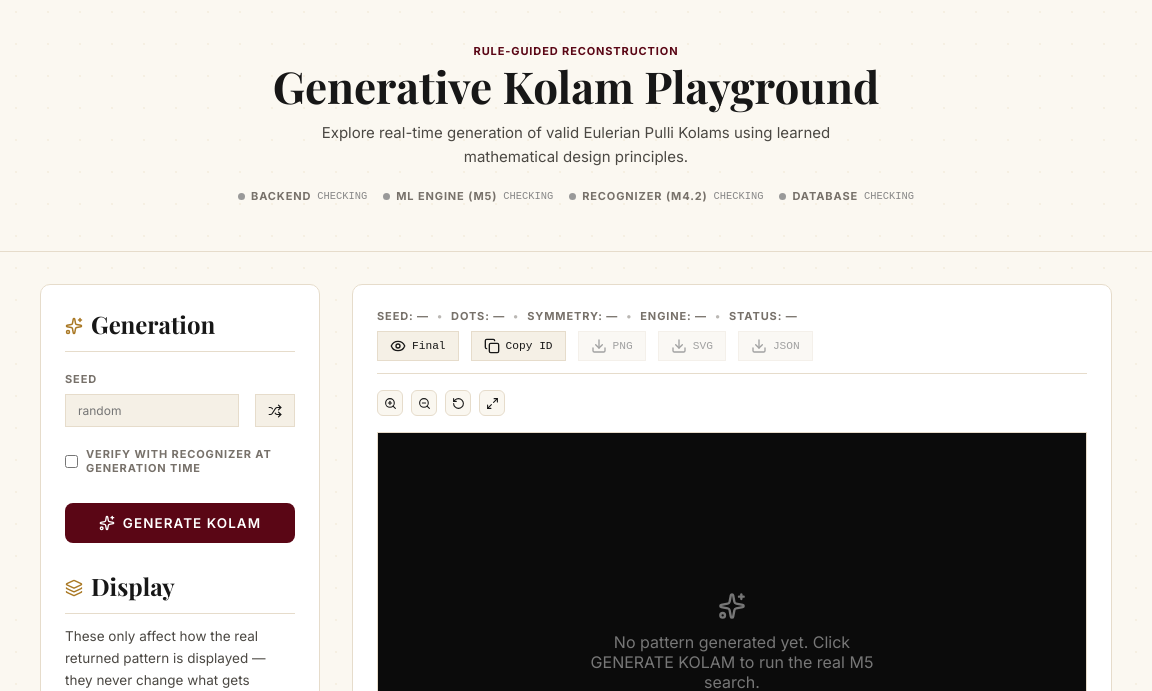
Playground — real generation flow › renders the real backend SVG and real analysis after a successful generation
Step 1. Click the button "GENERATE KOLAM" → (180, 523), box [65,503,295,543]
(page scrolled)
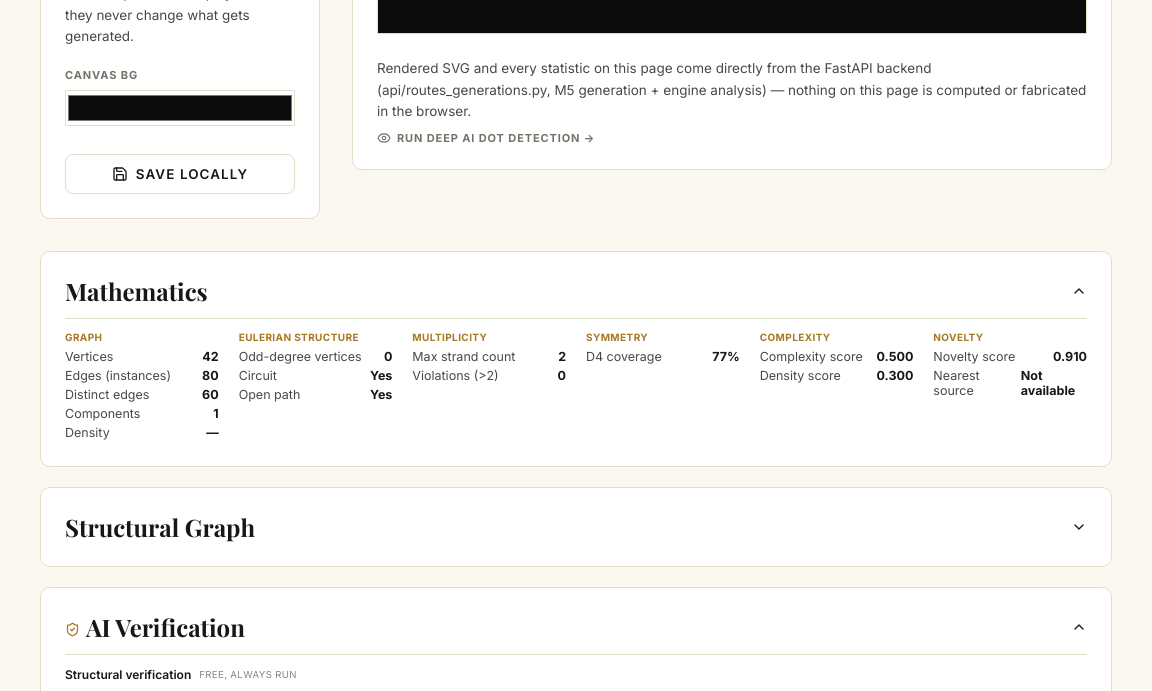
Expected: the text "42" is shown, [202,349,219,364]
Expected: the text "77%" is shown, [712,349,740,364]
